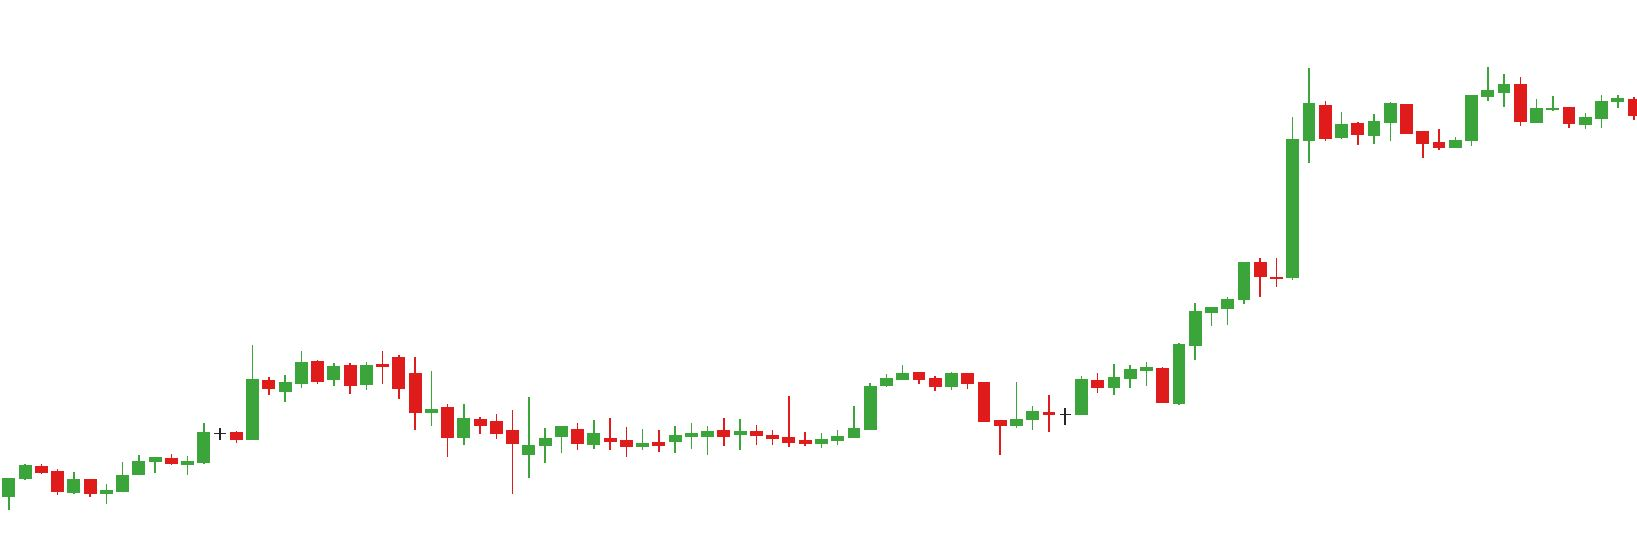sell: (1383, 63, 1531, 135)
